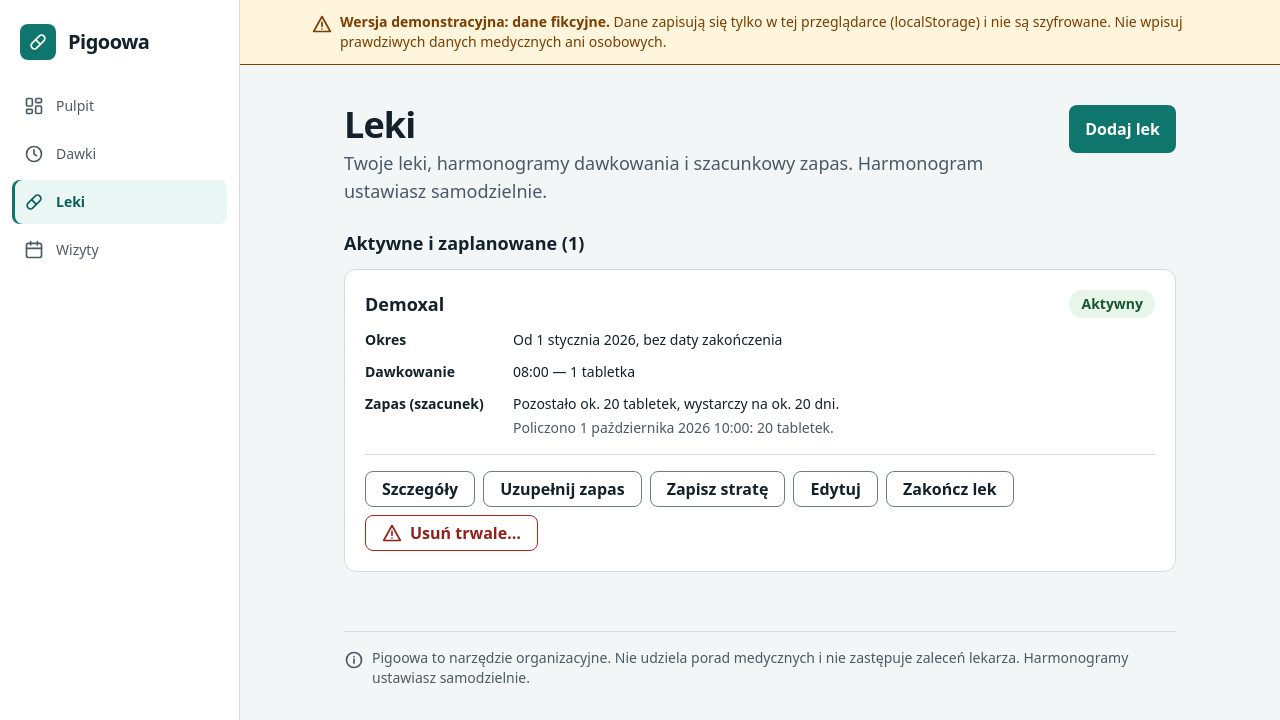
Test: the waste action › refuses the amount "0", says what to type, and records nothing
The width and height of the screenshot is (1280, 720).
Click the button named "Zapisz stratę leku Demoxal" at (718, 489), box 650,471 -> 786,507
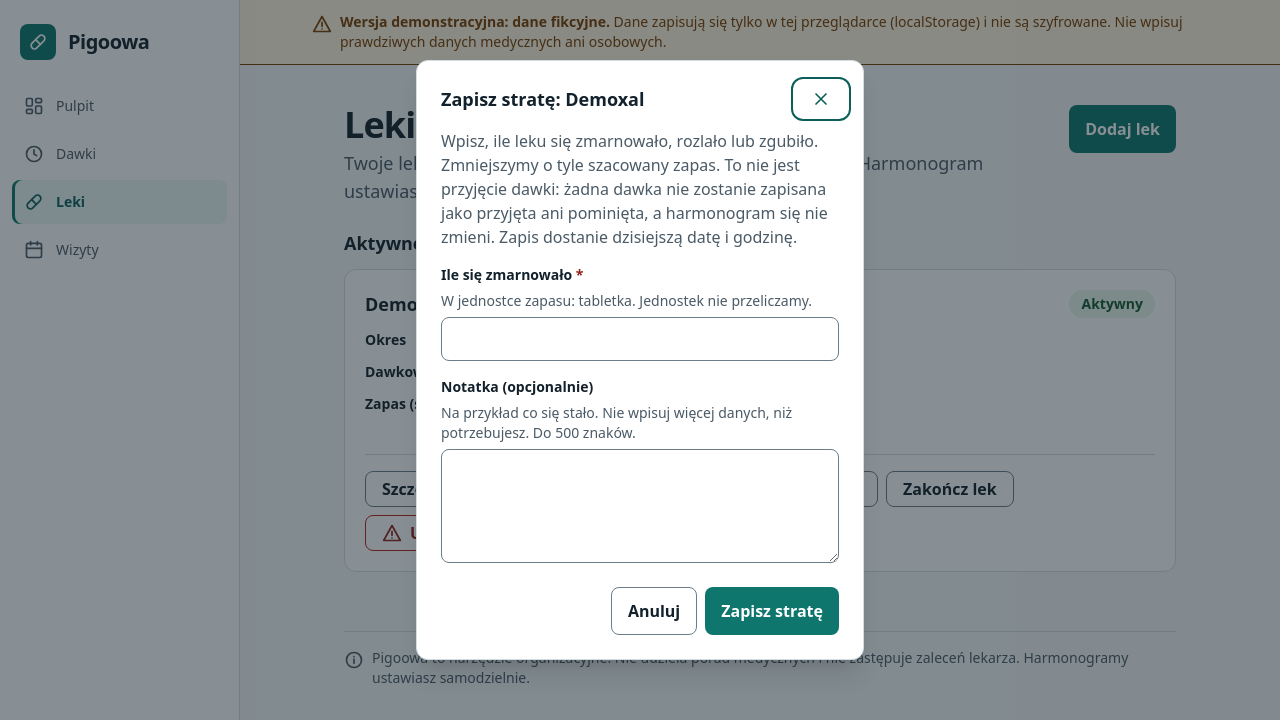
Type "0" into the field labelled "Ile się zmarnowało *" at (640, 339), box 441,317 -> 839,361
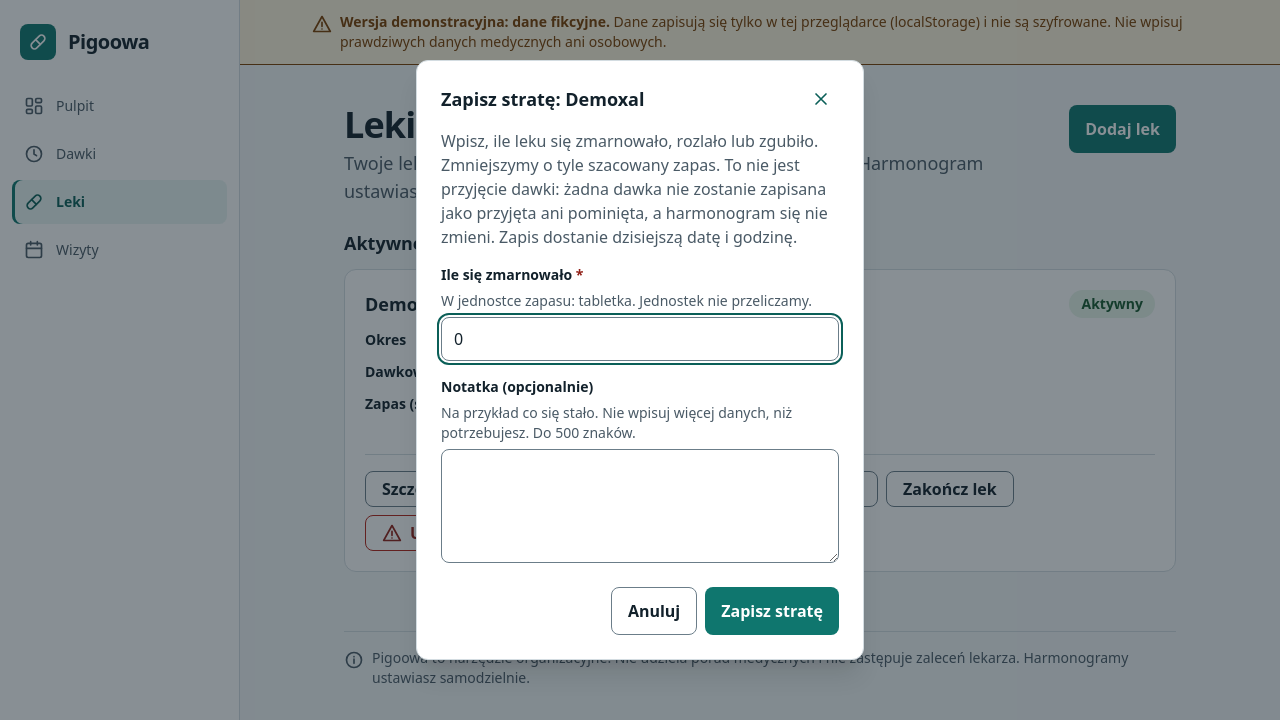
Click the button "Zapisz stratę" at (772, 611), box 705,587 -> 839,635
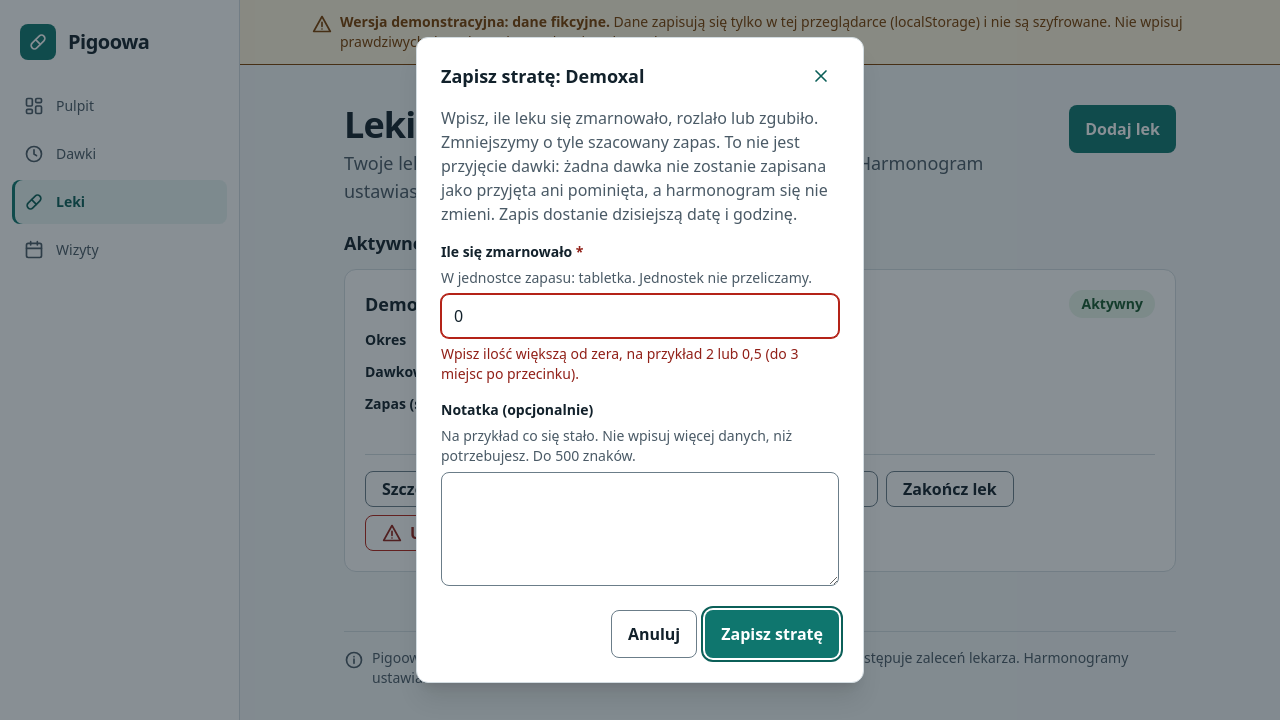
Expected: the text "Wpisz ilość większą od zera, na przykład 2 lub 0,5 (do 3 miejsc po przecinku)." is shown, 441,344 -> 839,384
